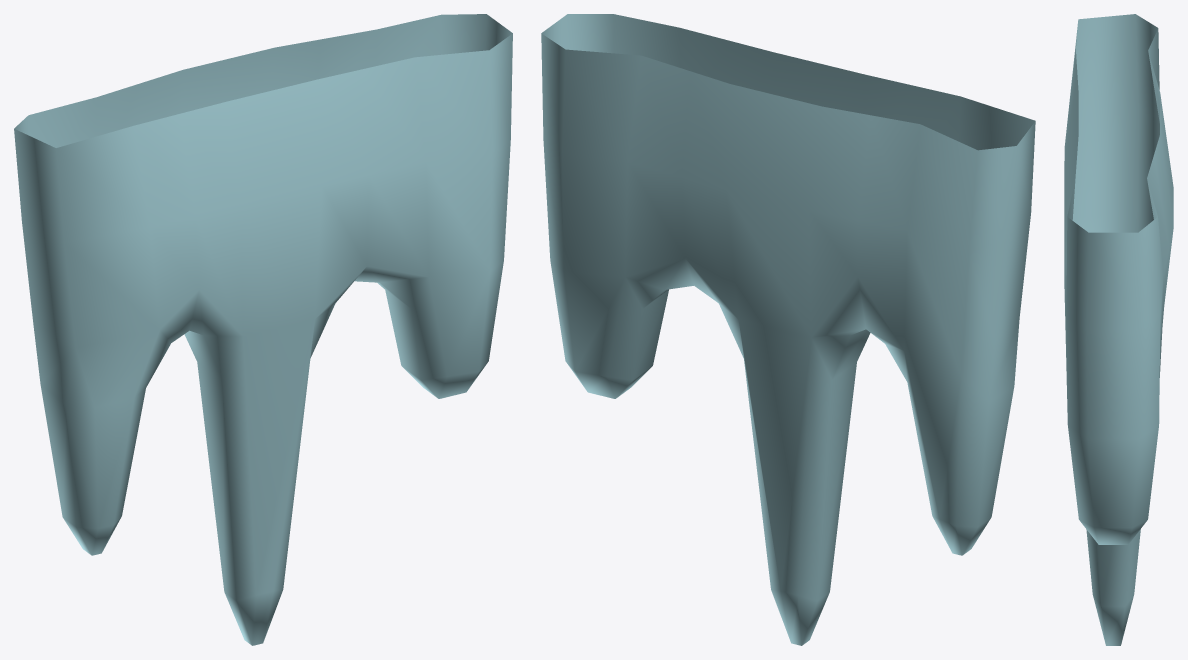
Rendered from Carambano_01.fbx.
3 renders of one model, left to right at view 1: azimuth 30°, elevation 25°; view 2: azimuth 150°, elevation 25°; view 3: azimuth 270°, elevation 25°, orthographic. The views are drawn at different scales.
Visible parts, largest first — view 1: Carambano001; view 2: Carambano001; view 3: Carambano001.
Boxes of the visible parts, left/top/right/bottom form: Carambano001: left=14, top=14, right=512, bottom=645; Carambano001: left=541, top=14, right=1035, bottom=645; Carambano001: left=1064, top=14, right=1173, bottom=645.
Size of the model in its own units: 51.03 by 58.11 by 10.9.
